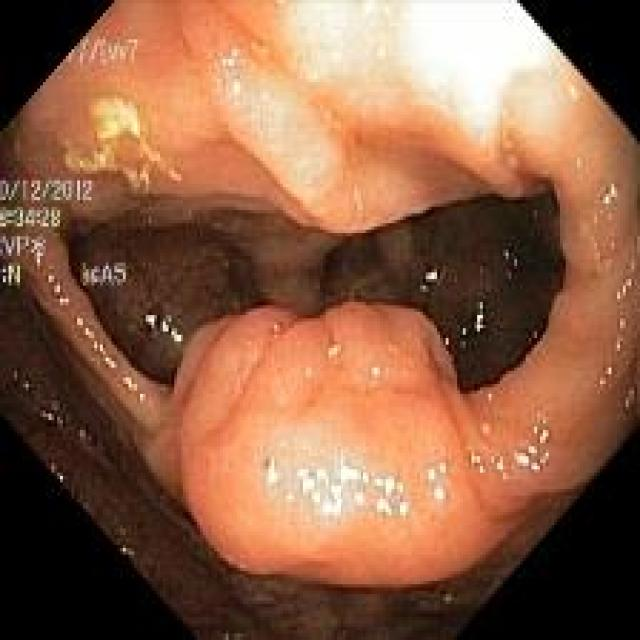Polyps: (162, 304, 528, 587)
